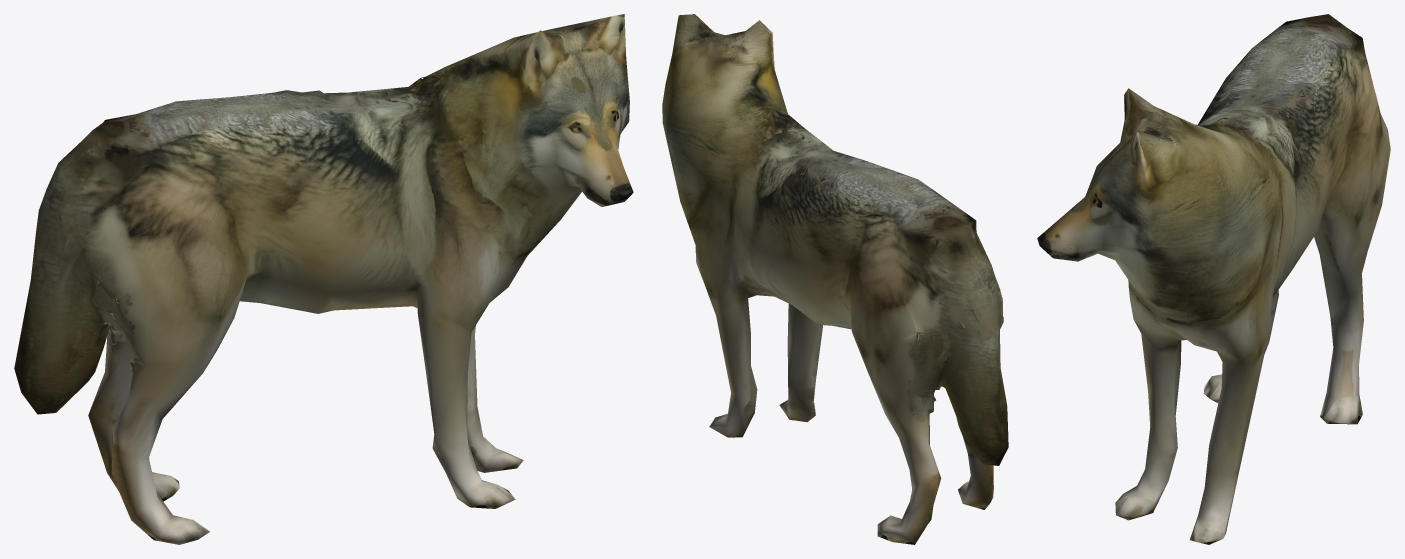
The model's file is wolf_striped_single_1500.glb.
3 views of the same model, side by side, from view 1: azimuth 30°, elevation 25°; view 2: azimuth 150°, elevation 25°; view 3: azimuth 270°, elevation 25° (orthographic). The views are drawn at different scales.
Size of the model in its own units: 0.9012 by 0.8052 by 0.5579.
1 material, 1 textured.
